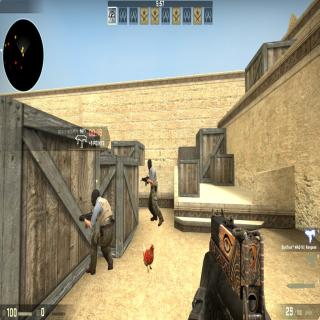T-Body: (85, 186, 114, 277), (145, 159, 163, 226)
T-Head: (89, 188, 101, 207), (146, 158, 153, 170)
